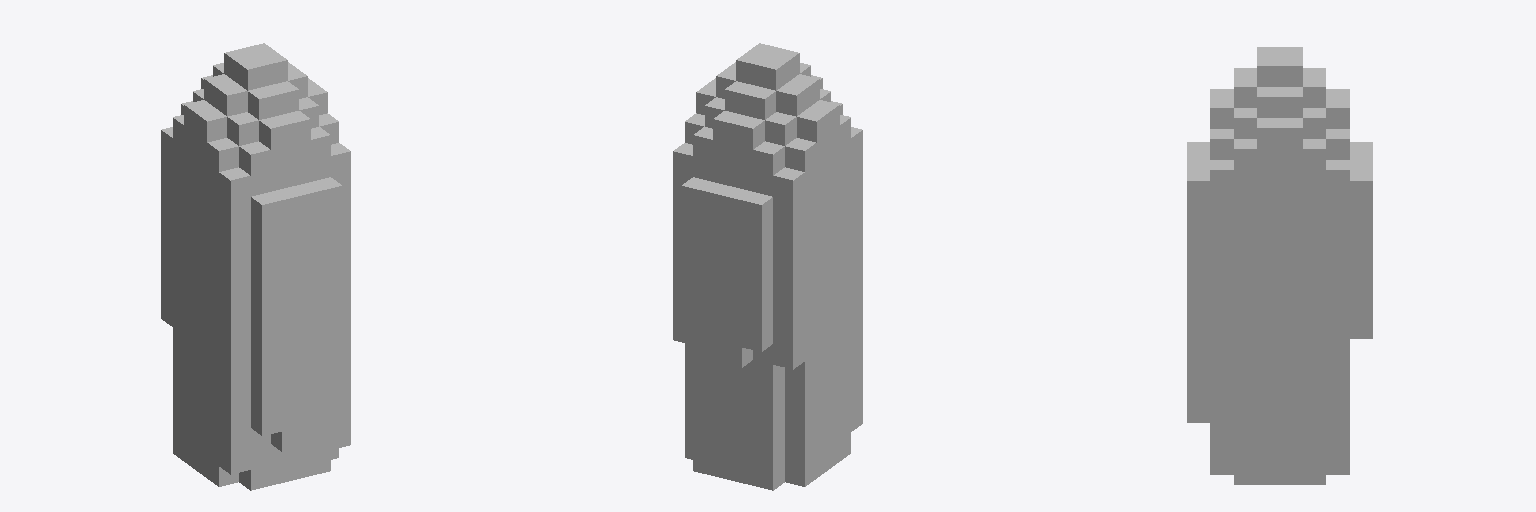
Rendered from Simple Charapter-4-Pata.obj.
3 views of the same model, side by side, from view 1: azimuth 30°, elevation 25°; view 2: azimuth 150°, elevation 25°; view 3: azimuth 270°, elevation 25° (orthographic).
Parts seen in each view (by area): view 1: Pata; view 2: Pata; view 3: Pata.
Part boxes in pixels (x1,y1,x2,y2): Pata: (161,43,350,490); Pata: (673,43,862,490); Pata: (1187,47,1372,484).
Size of the model in its own units: 0.6 by 1.9 by 0.8.